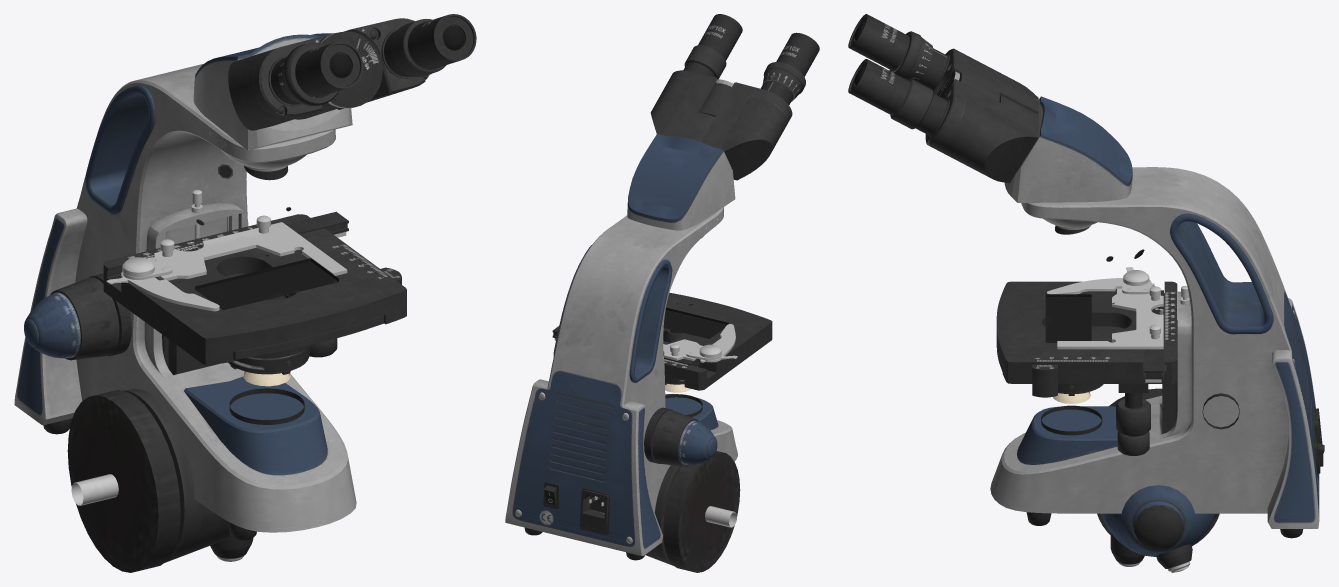
The model's file is compound_microscope.glb.
The picture shows the model from 3 angles, left to right: view 1: azimuth 30°, elevation 25°; view 2: azimuth 150°, elevation 25°; view 3: azimuth 270°, elevation 25°; orthographic projection. The views are drawn at different scales.
Visible parts, largest first — view 1: model_2, knob, eye_glass, Circle, model_2.004, lenses, model_2.002, model_2.001; view 2: model_2, knob, eye_glass, model_2.004, model_2.002; view 3: model_2, knob, eye_glass, model_2.002, model_2.001, model_2.004.
Boxes of the visible parts, bbox=[...] form: model_2: bbox=[14, 14, 476, 540]; knob: bbox=[67, 389, 230, 572]; eye_glass: bbox=[195, 258, 338, 310]; Circle: bbox=[320, 31, 382, 108]; model_2.004: bbox=[278, 43, 338, 106]; lenses: bbox=[196, 25, 464, 299]; model_2.002: bbox=[71, 474, 118, 505]; model_2.001: bbox=[210, 536, 253, 561]; model_2: bbox=[505, 14, 819, 560]; knob: bbox=[645, 451, 740, 572]; eye_glass: bbox=[663, 307, 728, 338]; model_2.004: bbox=[762, 62, 805, 101]; model_2.002: bbox=[705, 506, 737, 527]; model_2: bbox=[848, 14, 1324, 538]; knob: bbox=[1097, 388, 1219, 556]; eye_glass: bbox=[1045, 294, 1091, 342]; model_2.002: bbox=[1134, 505, 1183, 550]; model_2.001: bbox=[1110, 513, 1219, 572]; model_2.004: bbox=[889, 31, 932, 81].
Bounding box in the file's own units: 0.1719 × 0.39 × 0.3198.
Materials: 2 (2 with a texture image).
